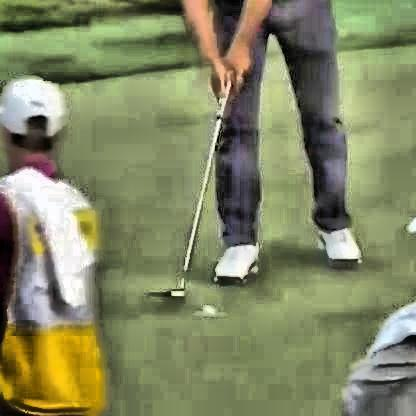golfball: (200, 302, 213, 313)
